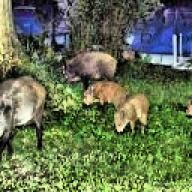boar: (0, 74, 46, 169)
